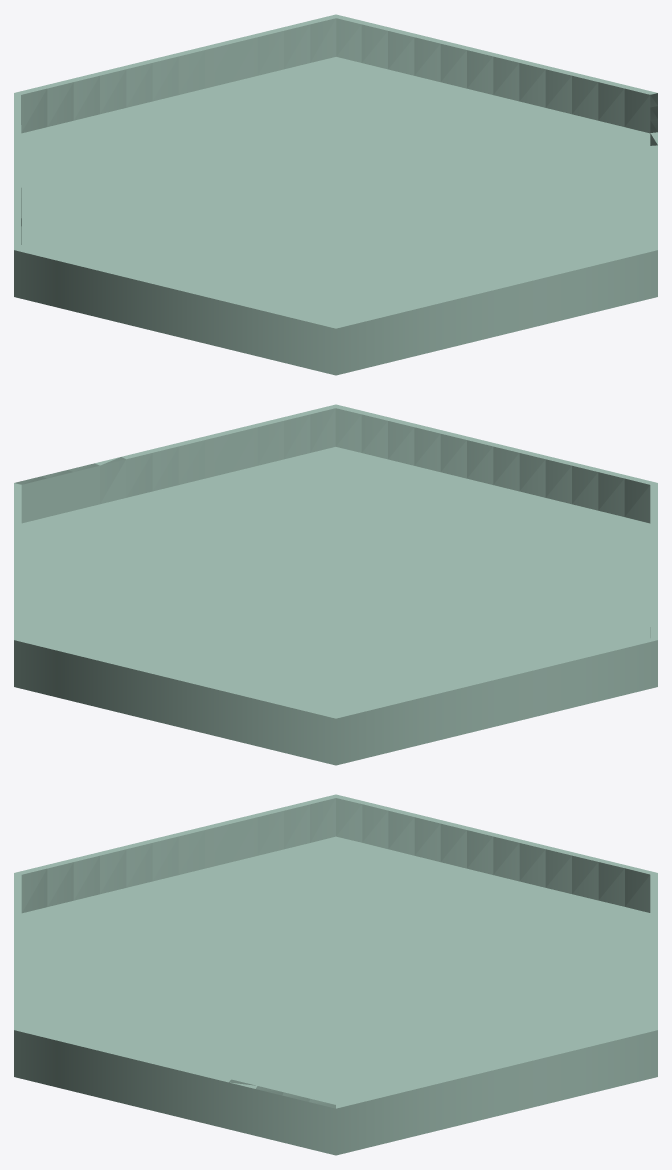
The model's file is probetahexagono.dae.
The picture shows the model from 3 angles, top to bottom: view 1: azimuth 30°, elevation 25°; view 2: azimuth 150°, elevation 25°; view 3: azimuth 270°, elevation 25°; orthographic projection.
Visible parts, largest first — view 1: probetahexagono; view 2: probetahexagono; view 3: probetahexagono.
Part boxes in pixels (<box>): probetahexagono: <box>14,14,657,375</box>; probetahexagono: <box>14,404,657,765</box>; probetahexagono: <box>14,794,657,1155</box>.
Bounding box in the file's own units: 690 × 48 × 598.
1 material, 1 textured.
